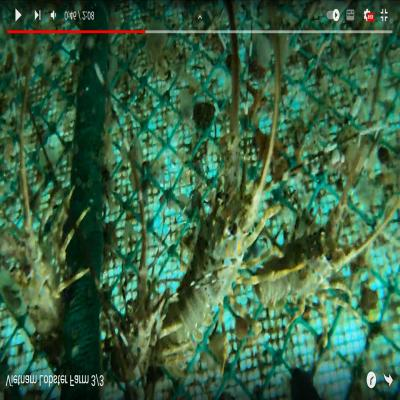lobster: (178, 174, 252, 350), (257, 204, 345, 316), (12, 200, 67, 349)
